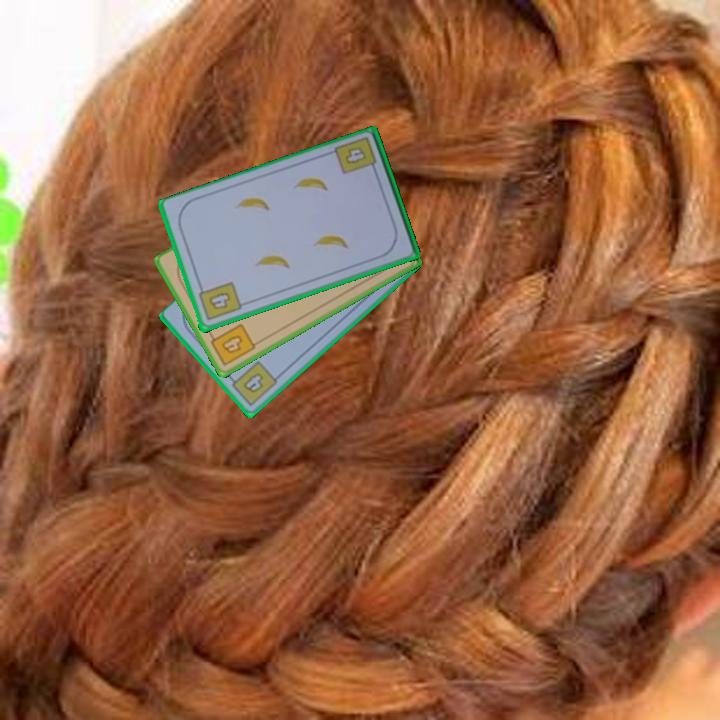4b: (225, 358, 280, 409), (205, 320, 258, 369), (195, 279, 244, 324), (341, 144, 369, 167)
